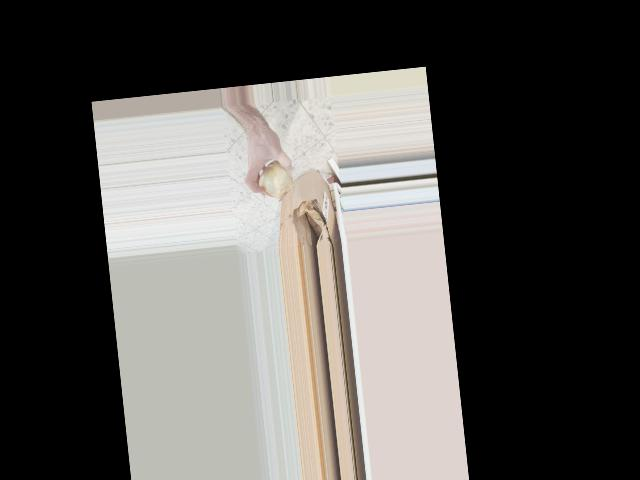onion: (256, 156, 295, 202)
